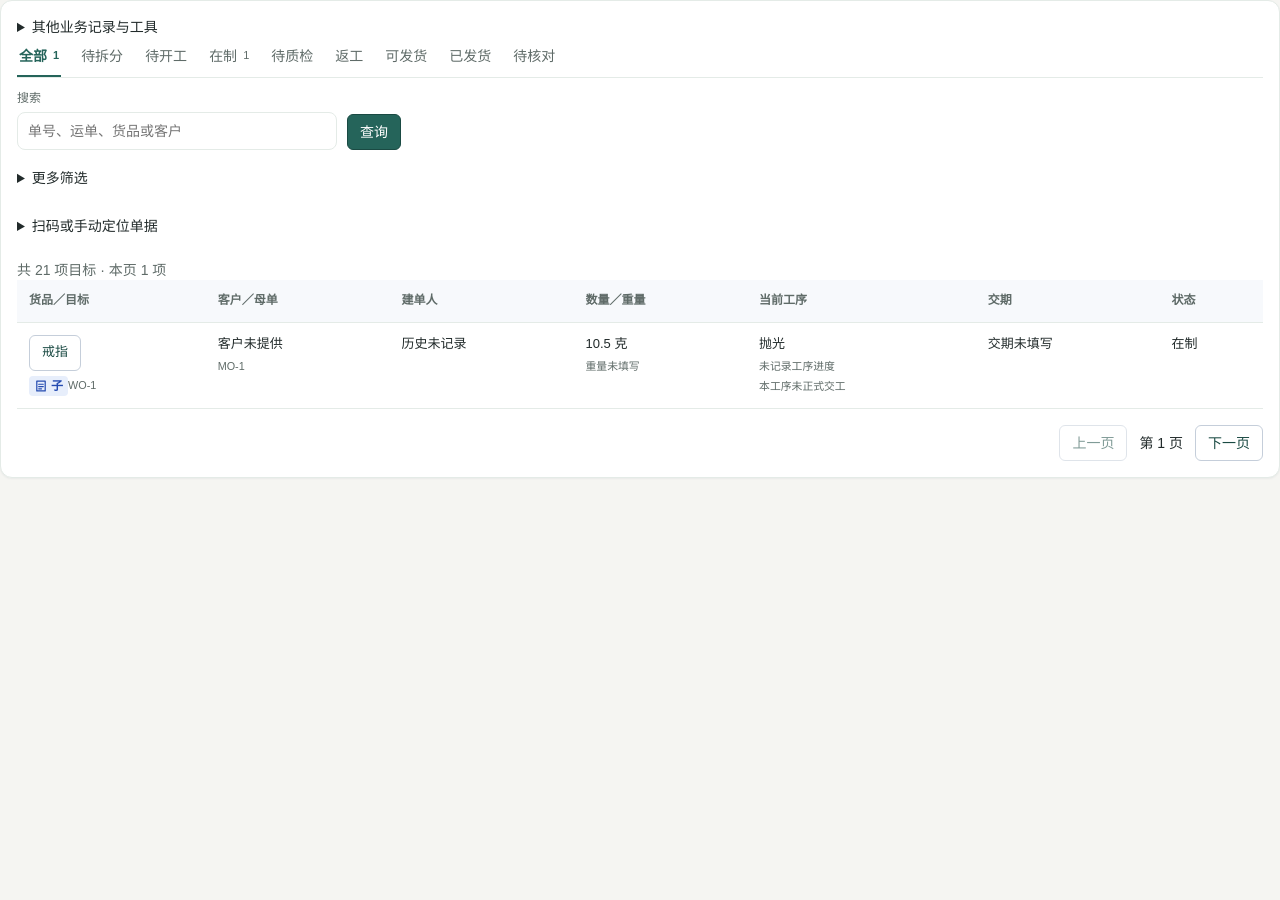
it: 统一订单列表与详情 › 修改筛选立即撤下旧详情和旧响应，分页使用服务端页信息
Click the button "戒指" at (55, 353), box [29, 335, 81, 371]
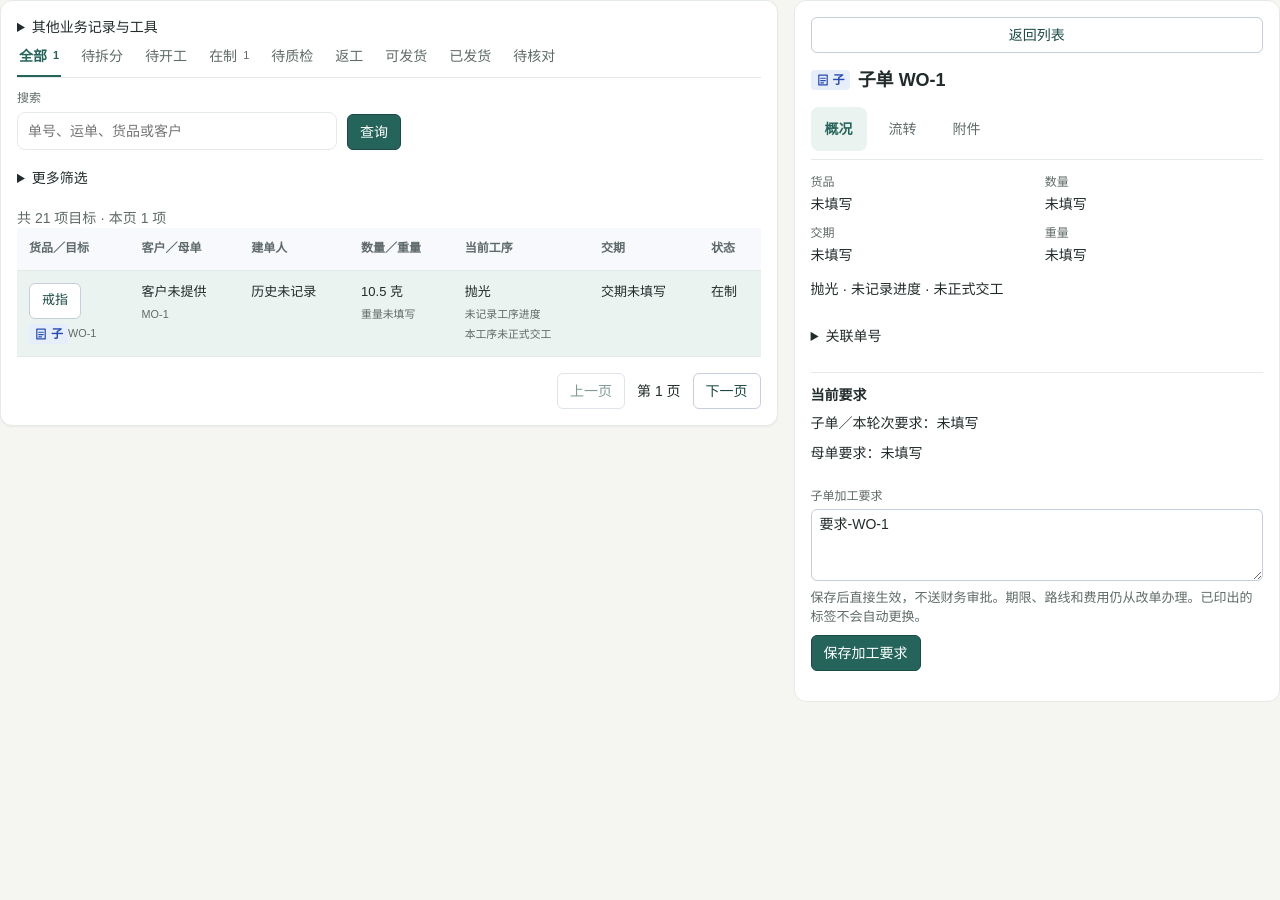
Click the button "下一页" at (727, 391), box [693, 373, 761, 409]
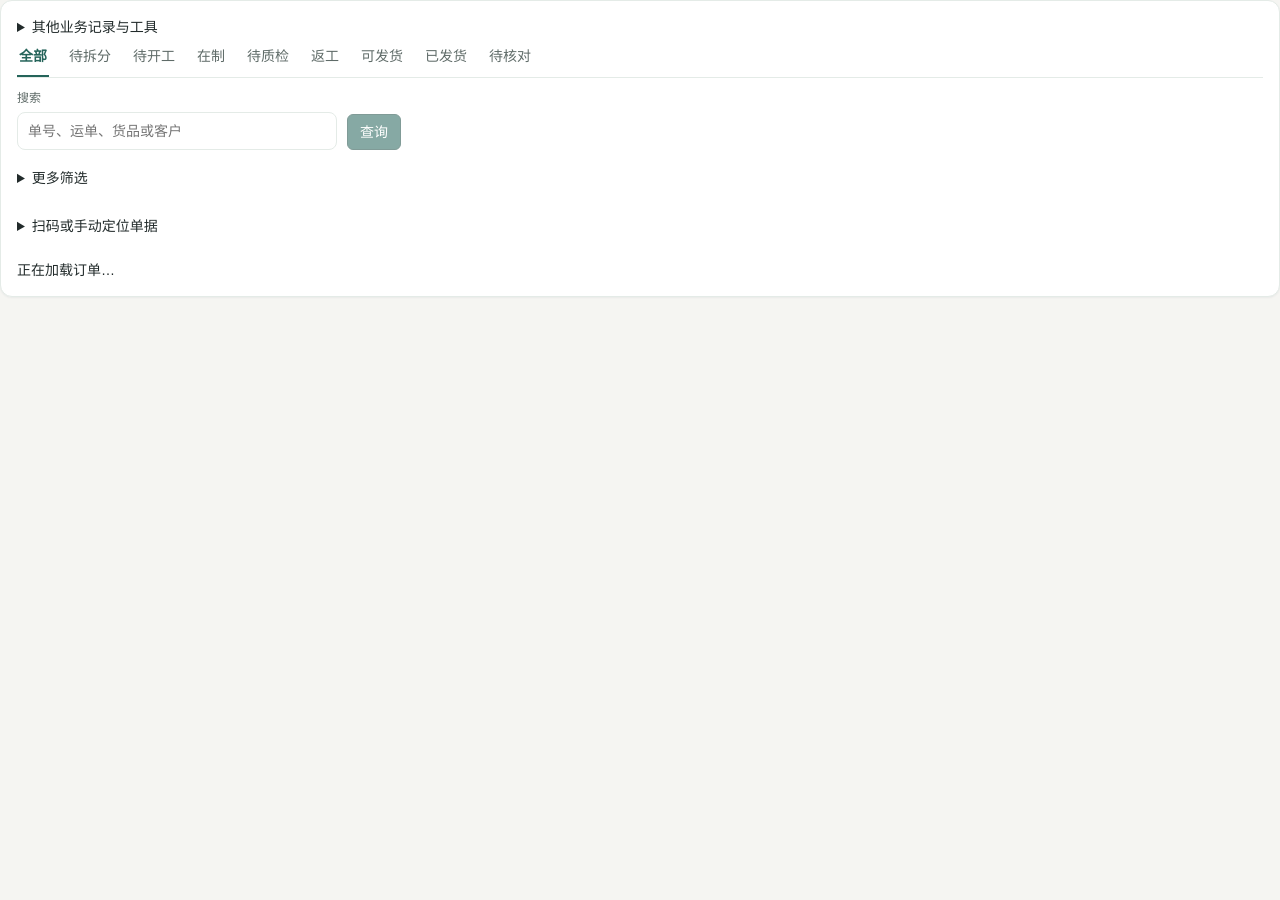
Type "NEW" into the field named "订单搜索" at (177, 131), box [17, 112, 337, 150]
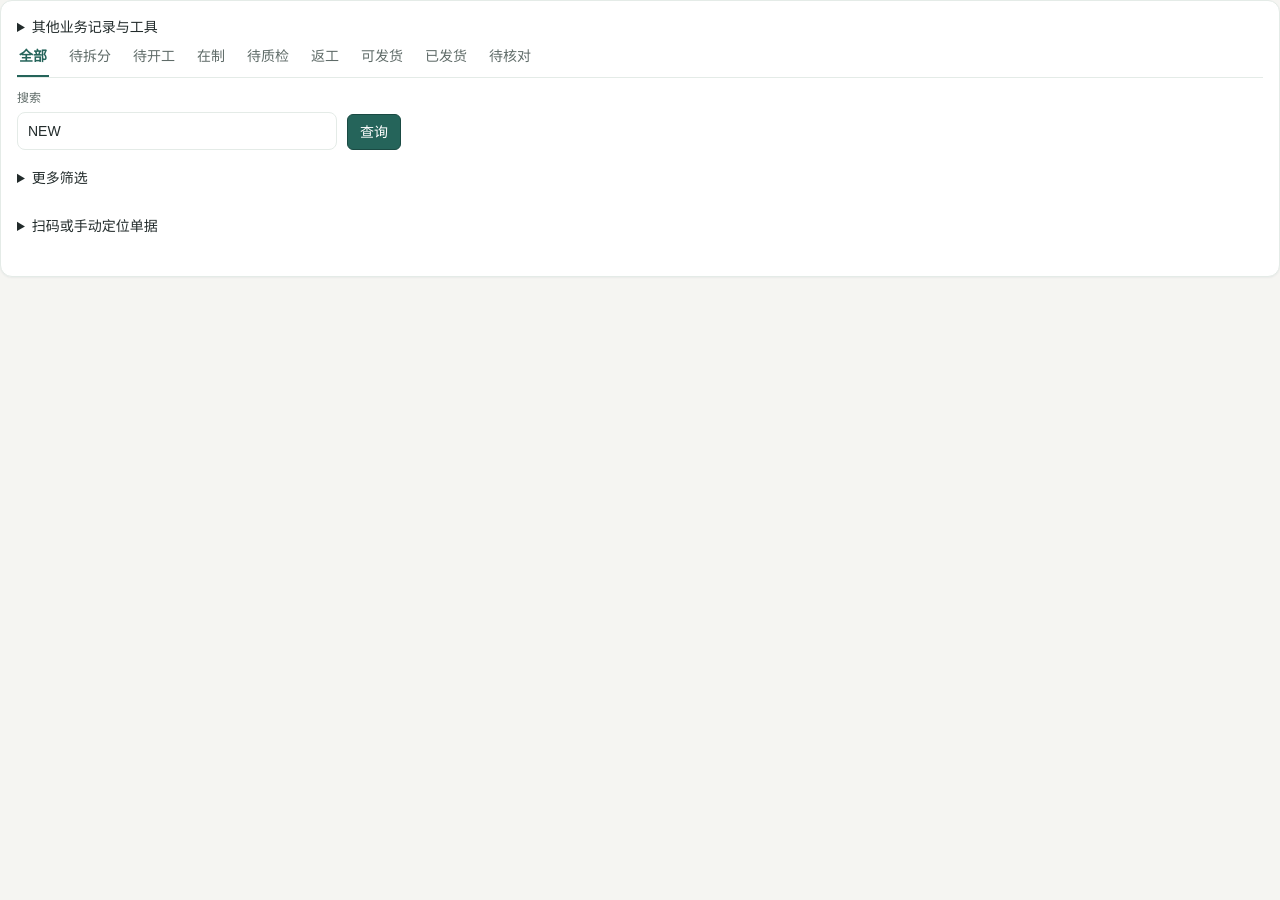
Submit the form, box [17, 91, 401, 186]
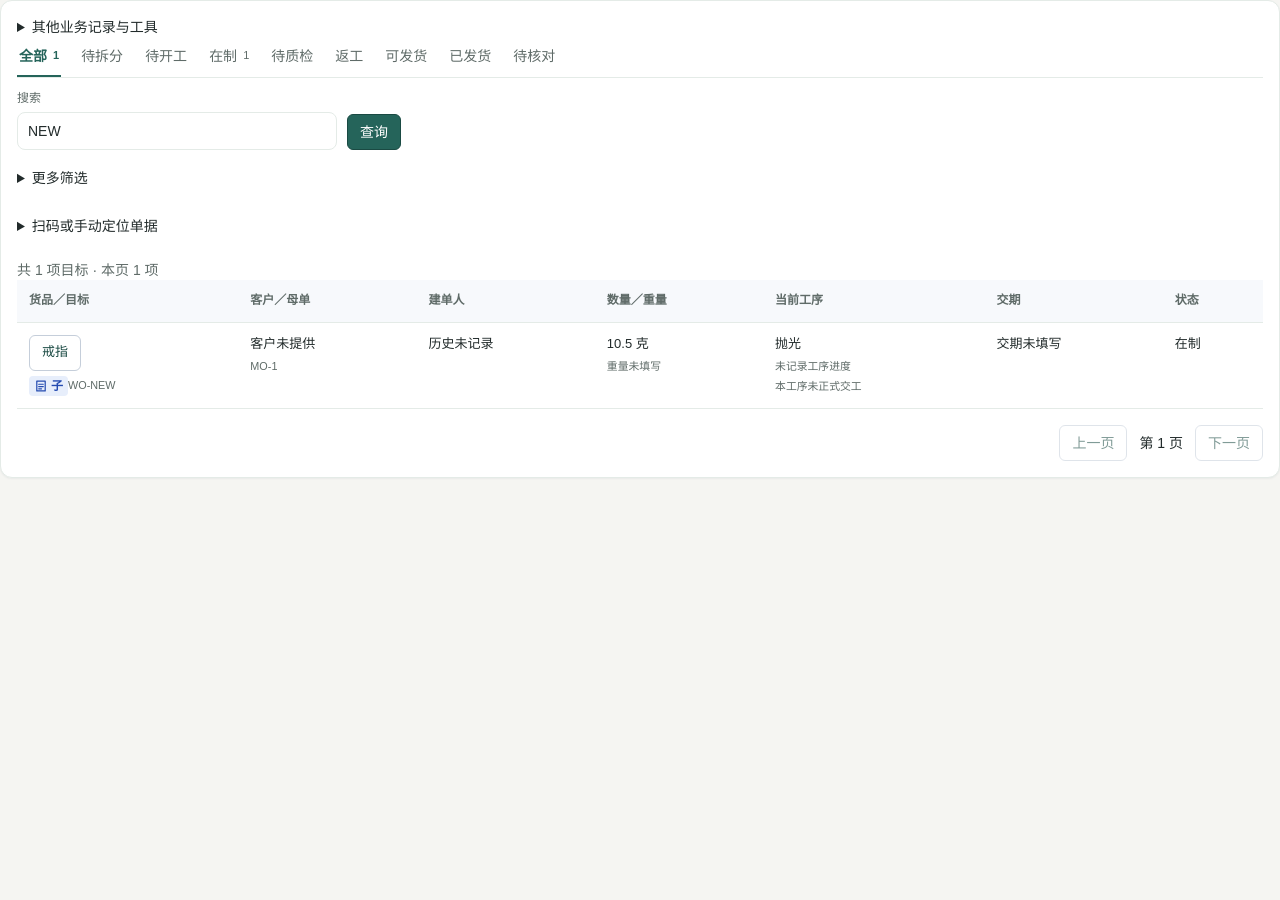
expect the text "WO-NEW" is shown: met, box [68, 378, 116, 390]
